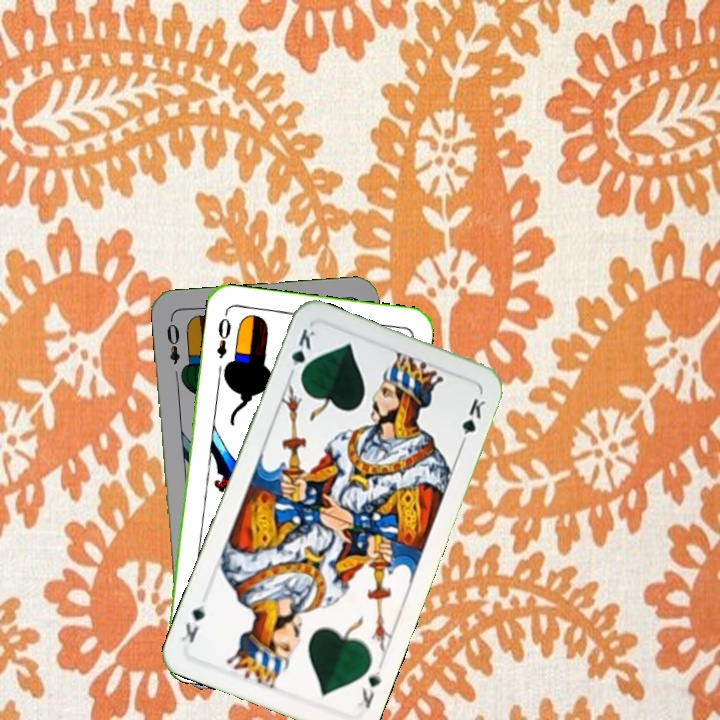EO: (213, 309, 234, 361), (162, 315, 182, 367)
GK: (285, 324, 318, 382), (353, 661, 385, 711)
